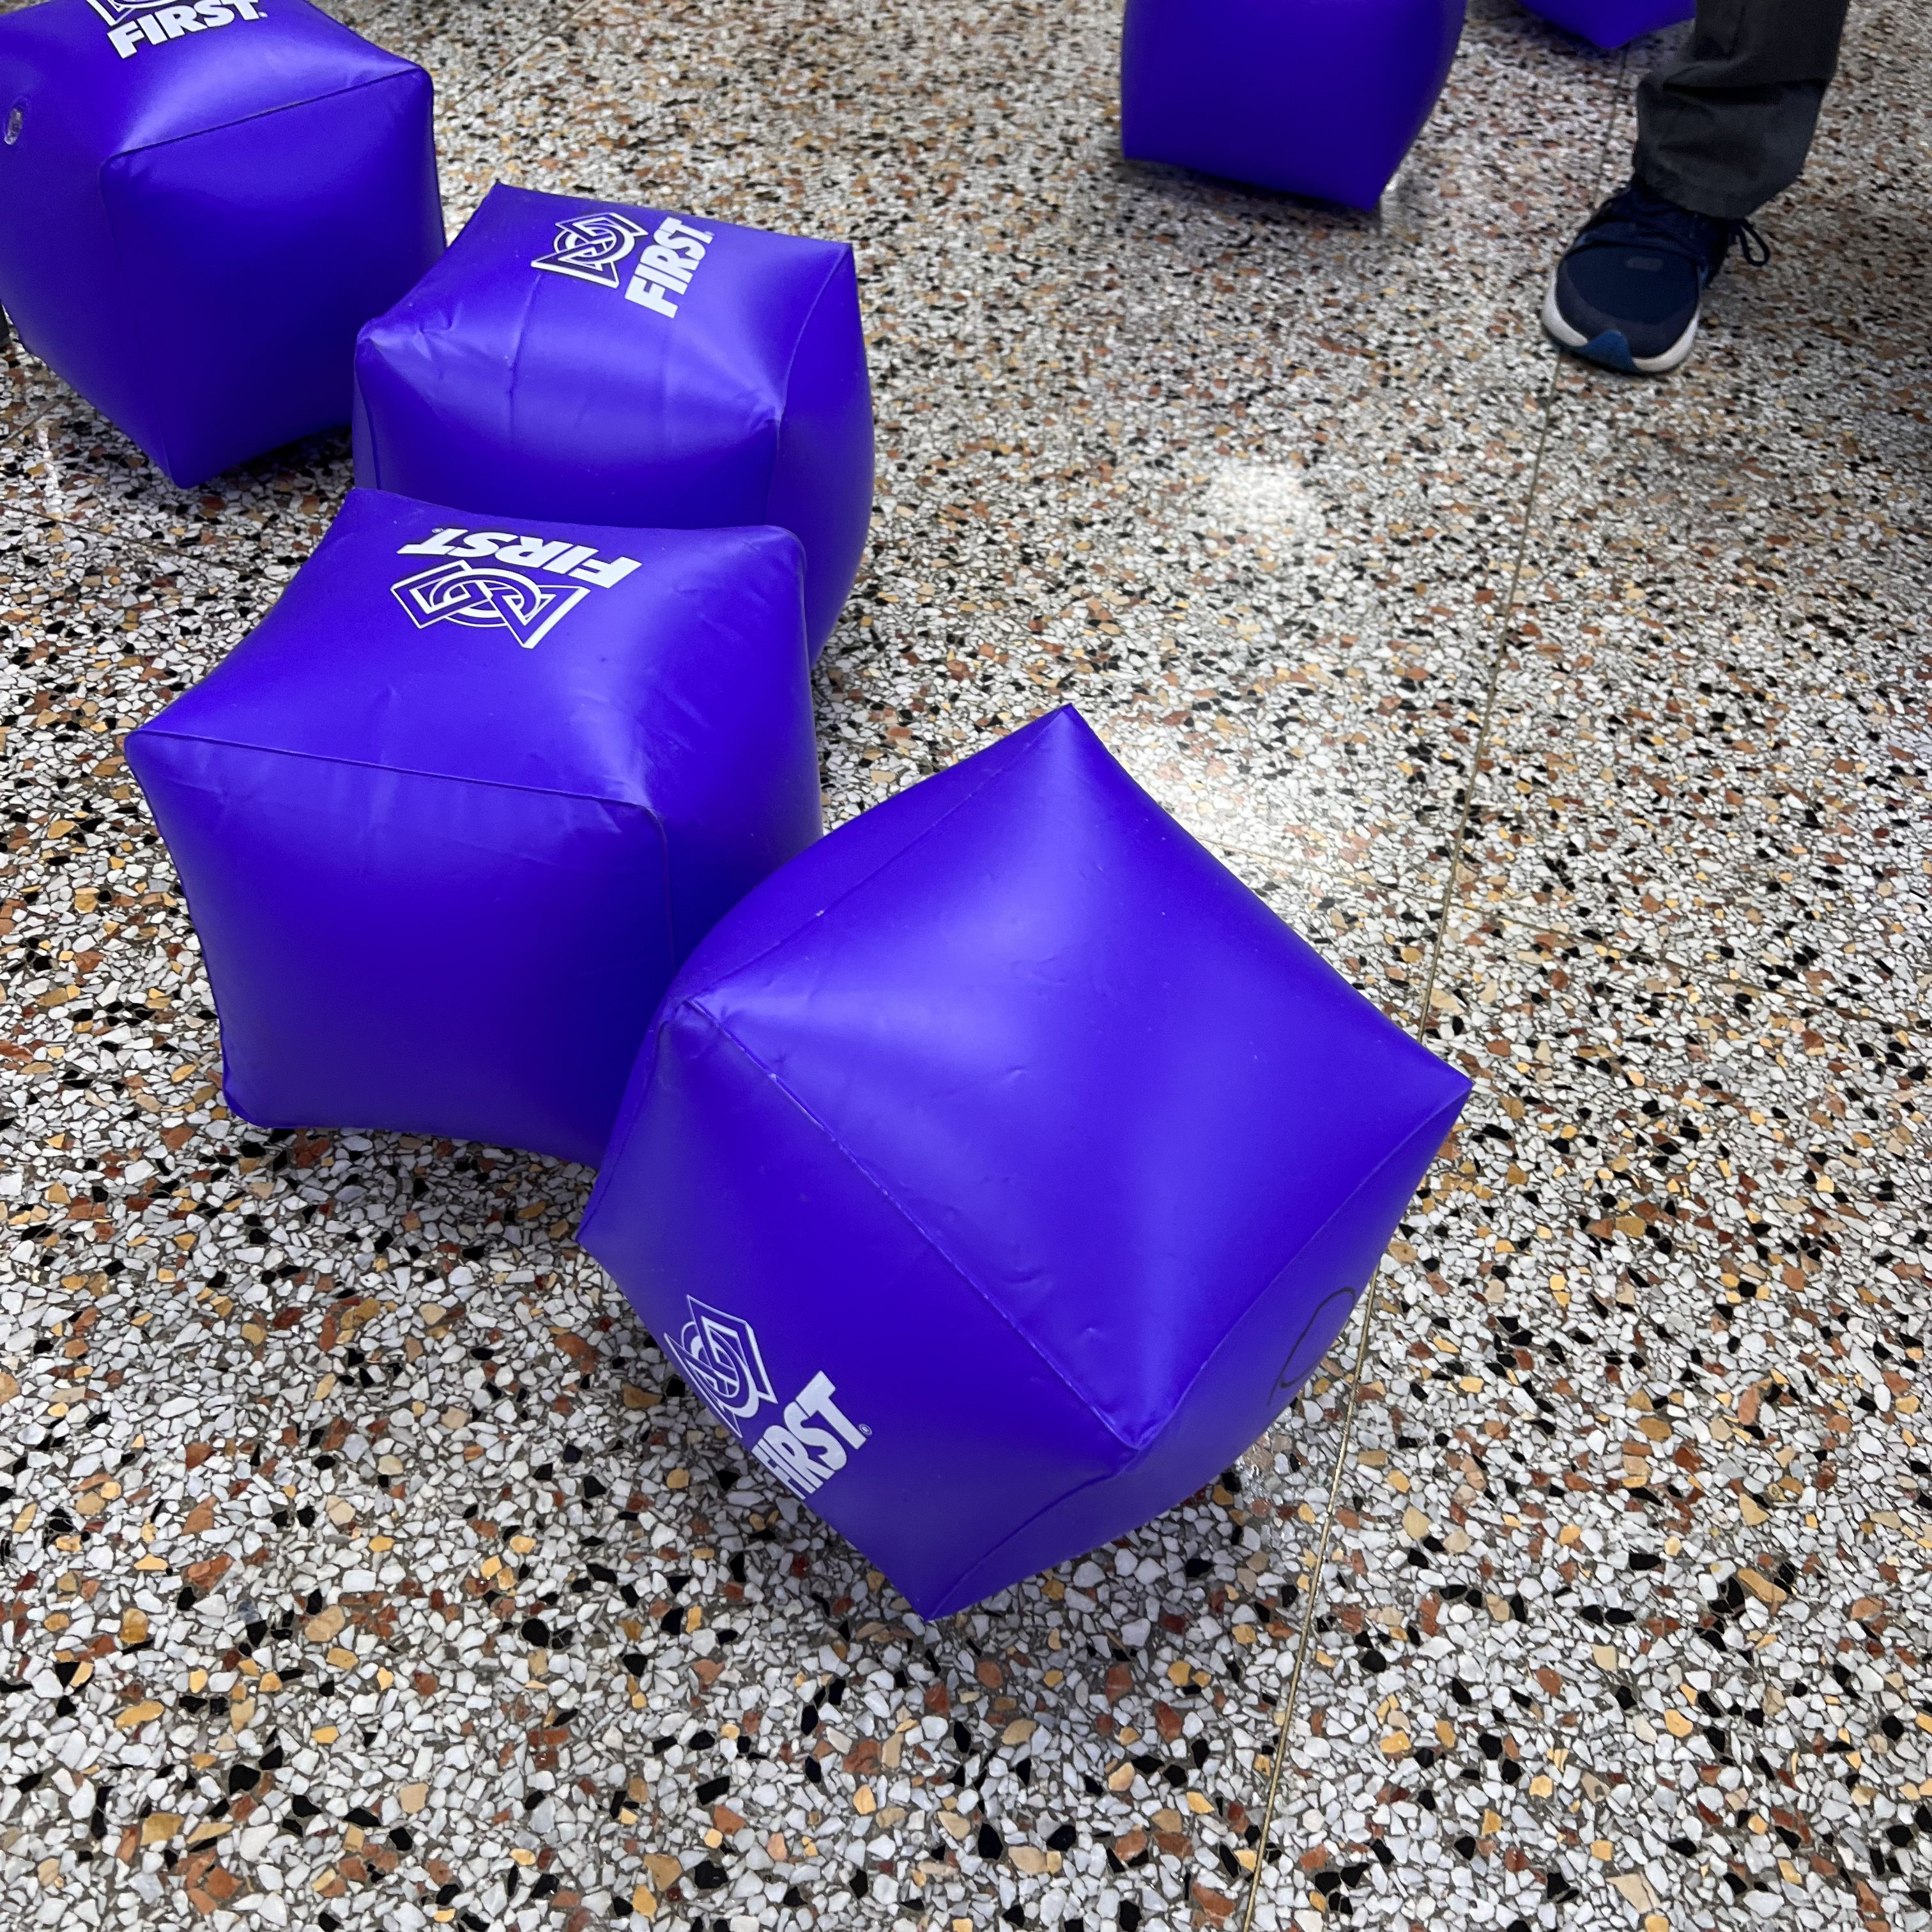cube: (575, 704, 1472, 1621), (122, 487, 842, 1175), (352, 182, 872, 683), (0, 0, 460, 488), (1118, 0, 1465, 214), (1483, 0, 1737, 55)
